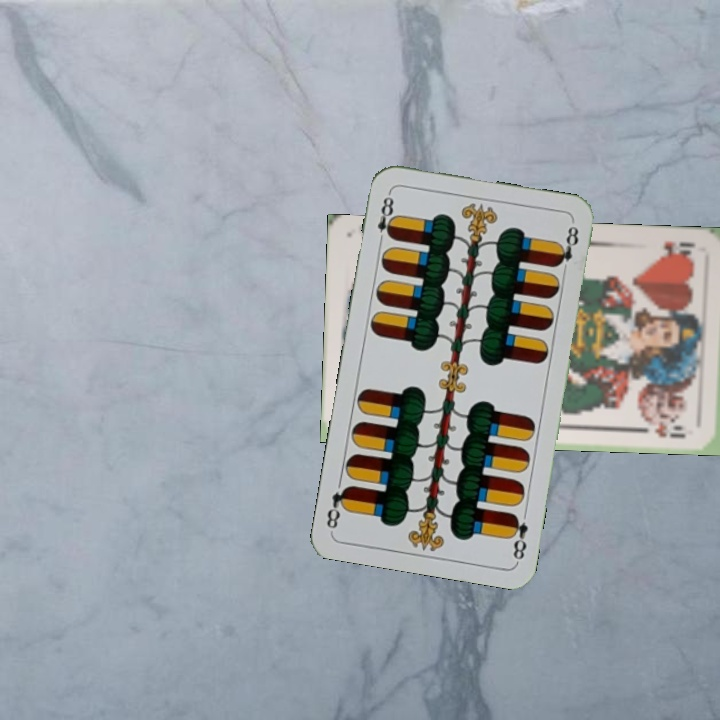E8: (373, 188, 399, 247), (505, 509, 531, 564)
HO: (656, 237, 698, 259)
